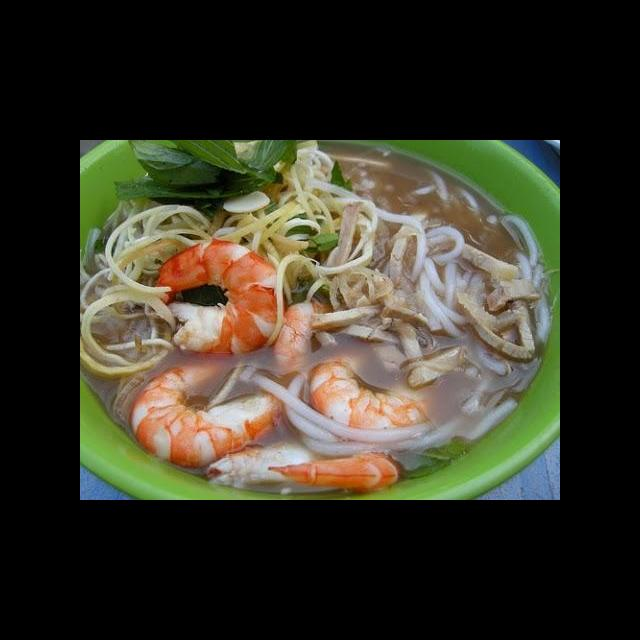bun: (247, 356, 529, 463), (376, 204, 497, 344)
thit heo quay: (452, 284, 541, 365), (387, 202, 435, 291), (397, 339, 473, 395), (449, 229, 522, 285), (483, 271, 544, 314)
tom: (127, 351, 287, 472), (146, 234, 291, 359), (305, 342, 449, 435), (203, 435, 409, 500), (276, 294, 364, 387)
